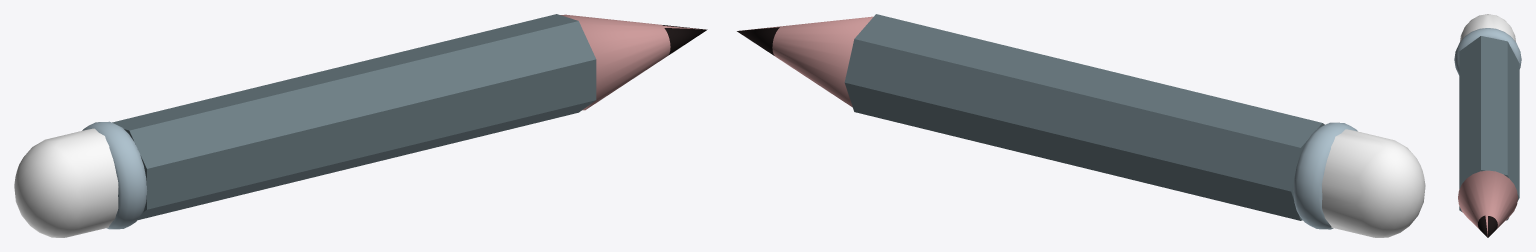
File: pen.glb
The picture shows the model from 3 angles, left to right: view 1: azimuth 30°, elevation 25°; view 2: azimuth 150°, elevation 25°; view 3: azimuth 270°, elevation 25°; orthographic projection. The views are drawn at different scales.
Parts seen in each view (by area): view 1: Cylinder, Icosphere, Cone, Torus; view 2: Cylinder, Icosphere, Cone, Torus; view 3: Cylinder, Cone, Torus, Icosphere.
Part boxes in pixels (left/top/right/bottom): Cylinder: left=112, top=14, right=596, bottom=219; Icosphere: left=14, top=128, right=118, bottom=237; Cone: left=560, top=14, right=707, bottom=110; Torus: left=82, top=121, right=147, bottom=229; Cylinder: left=844, top=14, right=1324, bottom=220; Icosphere: left=1322, top=129, right=1425, bottom=237; Cone: left=737, top=16, right=873, bottom=107; Torus: left=1293, top=122, right=1357, bottom=229; Cylinder: left=1459, top=36, right=1519, bottom=220; Cone: left=1458, top=170, right=1517, bottom=237; Torus: left=1454, top=28, right=1521, bottom=75; Icosphere: left=1460, top=14, right=1515, bottom=41.
Bounding box in the file's own units: 15.3 × 2.13 × 2.13.
